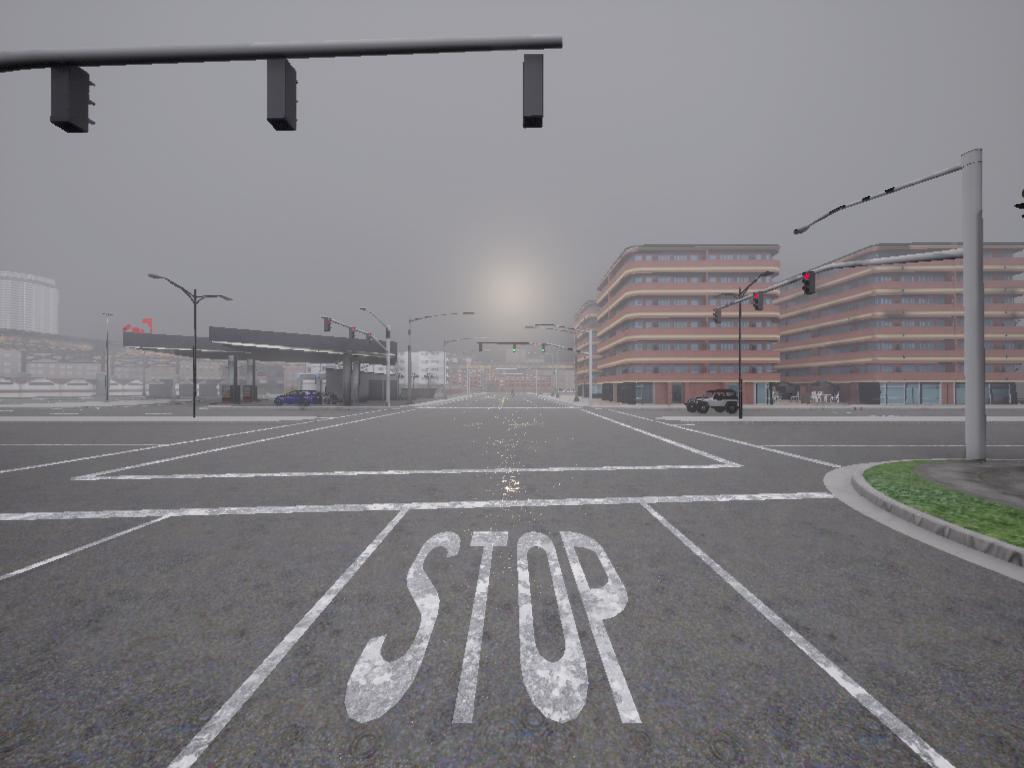traffic_light: (264, 57, 303, 135), (50, 69, 94, 134), (522, 52, 545, 133), (800, 273, 814, 296), (805, 274, 817, 295), (713, 309, 724, 326), (755, 293, 764, 311), (325, 319, 334, 334), (349, 328, 357, 343), (366, 333, 373, 348), (541, 344, 547, 355), (479, 343, 484, 354), (513, 343, 517, 355)
